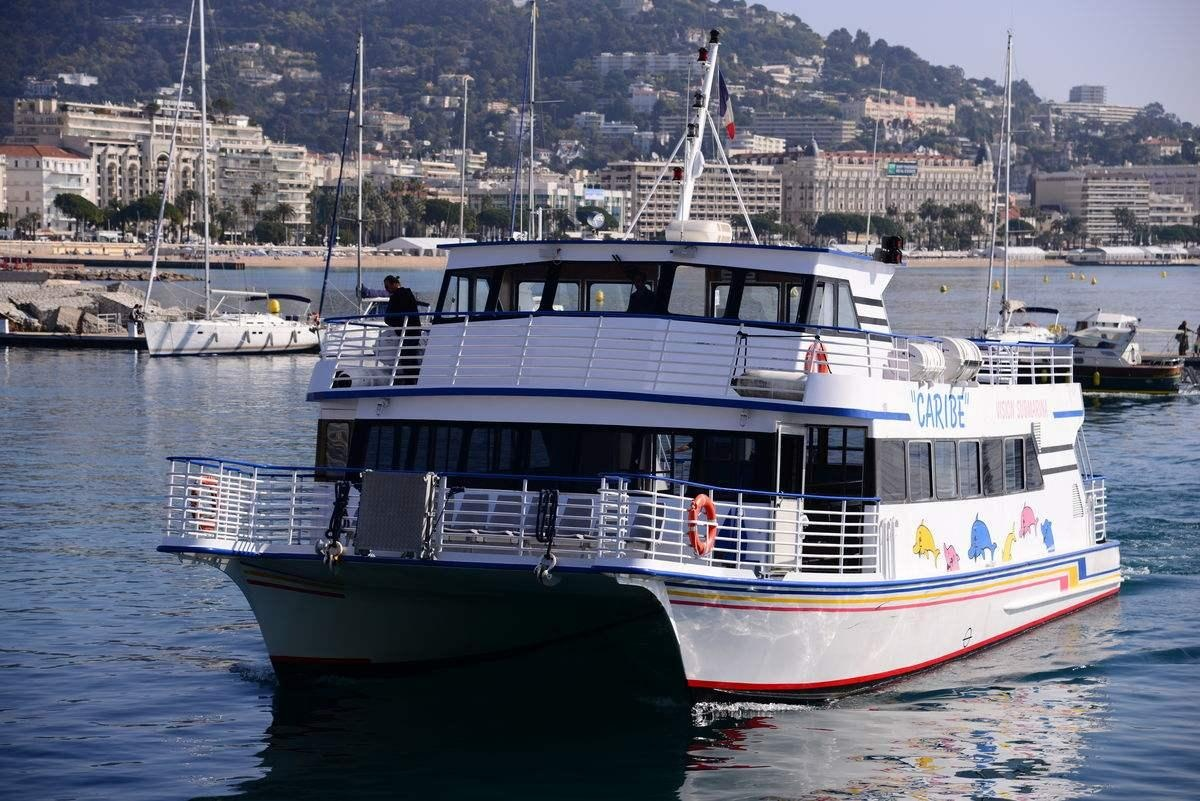otherboat: (149, 196, 1135, 687), (1028, 300, 1186, 393)
